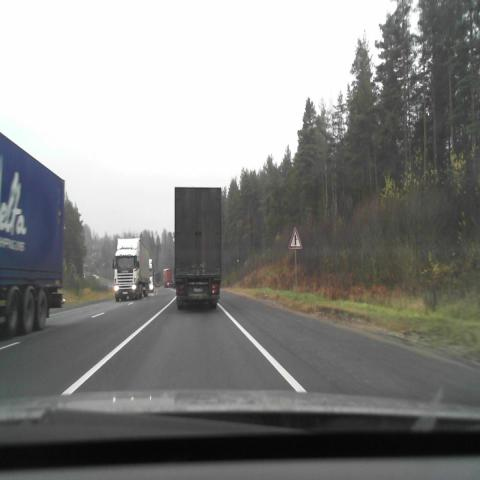2_3_2: (288, 227, 302, 248)
